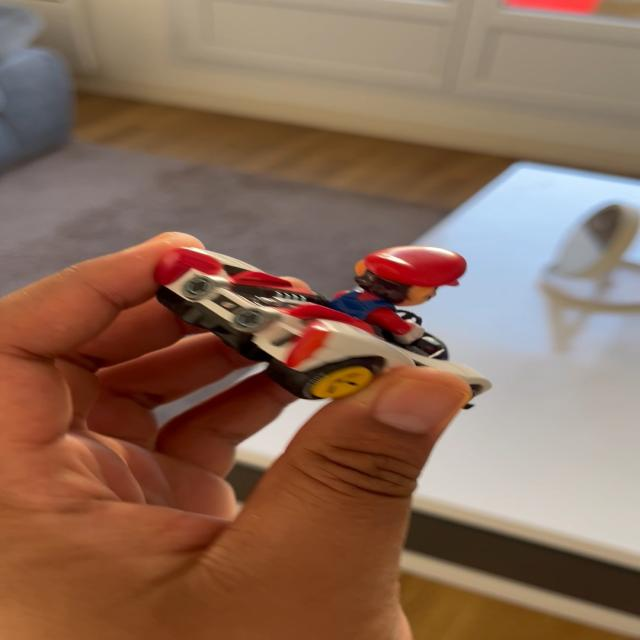mario: (138, 240, 509, 418)
